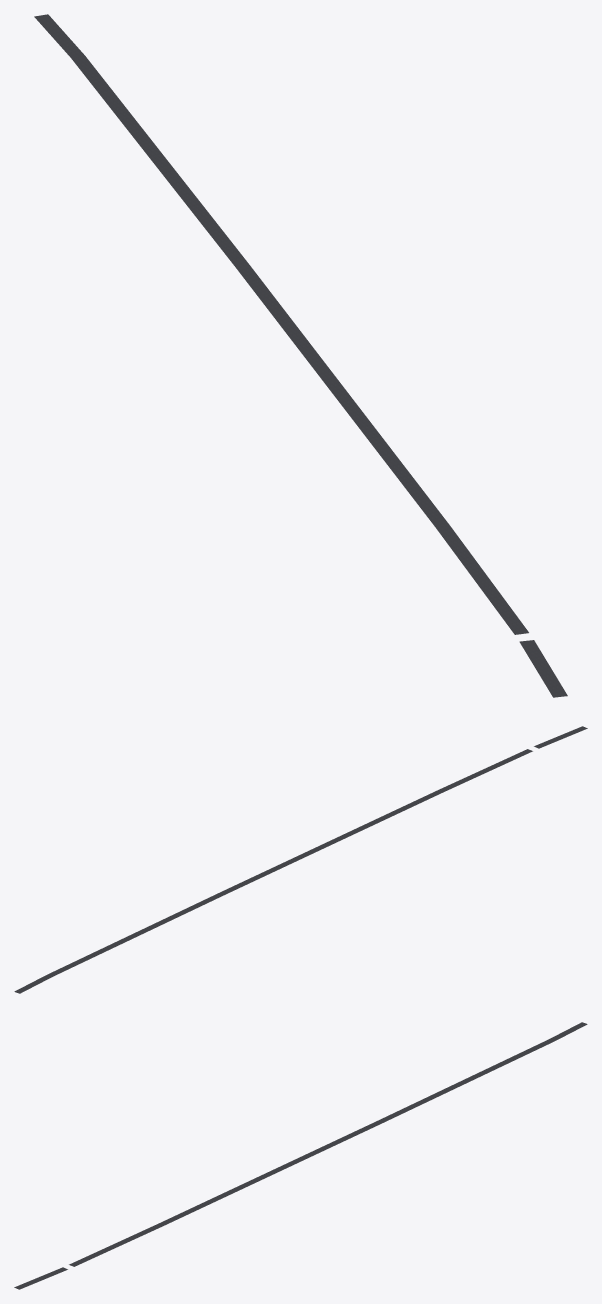
Rendered from district_-2_-4.glb.
The picture shows the model from 3 angles, top to bottom: view 1: azimuth 30°, elevation 25°; view 2: azimuth 150°, elevation 25°; view 3: azimuth 330°, elevation 25°; orthographic projection. The views are drawn at different scales.
Parts seen in each view (by area): view 1: Road переулок Гайдара; view 2: Road переулок Гайдара; view 3: Road переулок Гайдара.
Boxes of the visible parts, left/top/right/bottom form: Road переулок Гайдара: left=34, top=14, right=567, bottom=697; Road переулок Гайдара: left=14, top=726, right=587, bottom=993; Road переулок Гайдара: left=14, top=1022, right=587, bottom=1289.
Bounding box in the file's own units: 97.07 × 0 × 434.
Materials: 1 (1 with a texture image).
